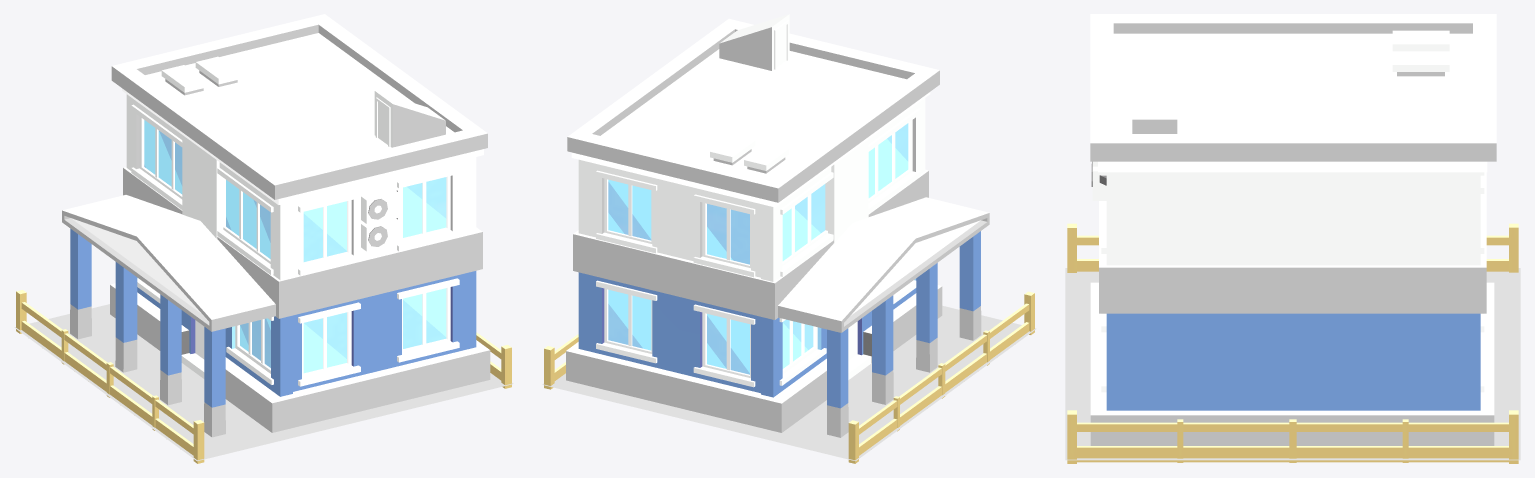
3 views of the same model, side by side, from view 1: azimuth 30°, elevation 25°; view 2: azimuth 150°, elevation 25°; view 3: azimuth 270°, elevation 25° (orthographic). The views are drawn at different scales.
Parts seen in each view (by area): view 1: bank.007 (1), tile_for_home_1x1.016 (21); view 2: bank.007 (1), tile_for_home_1x1.016 (21); view 3: bank.007 (1), tile_for_home_1x1.016 (21).
Part boxes in pixels (x1,y1,x2,y2): bank.007 (1): (62, 14, 490, 437); tile_for_home_1x1.016 (21): (14, 290, 513, 463); bank.007 (1): (566, 14, 989, 437); tile_for_home_1x1.016 (21): (542, 291, 1036, 463); bank.007 (1): (1090, 14, 1496, 445); tile_for_home_1x1.016 (21): (1065, 223, 1520, 463).
Size of the model in its own units: 8 by 6.92 by 8.
1 material, 1 textured.
